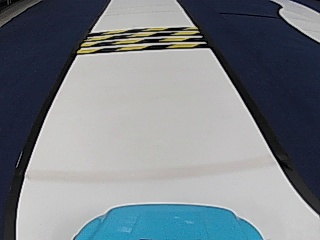bump: (96, 26, 190, 53)
